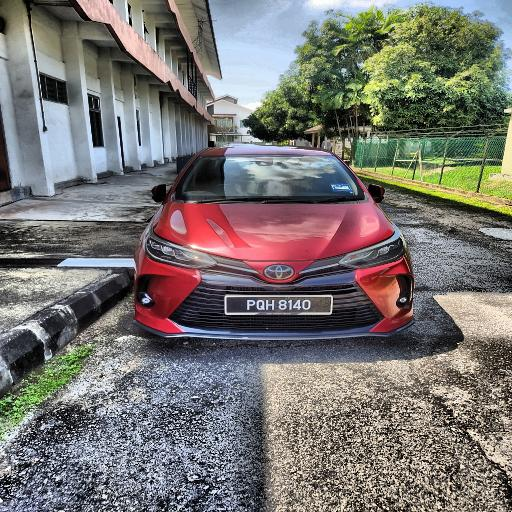license_plate: (225, 294, 331, 316)
